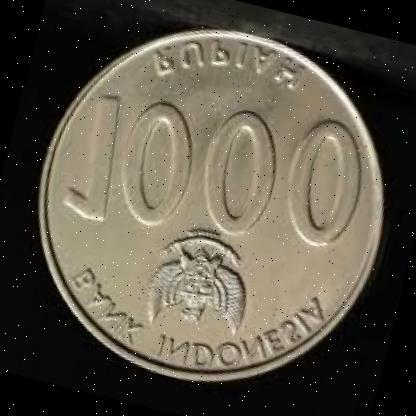coin_1000_e2010: (39, 29, 394, 389)
